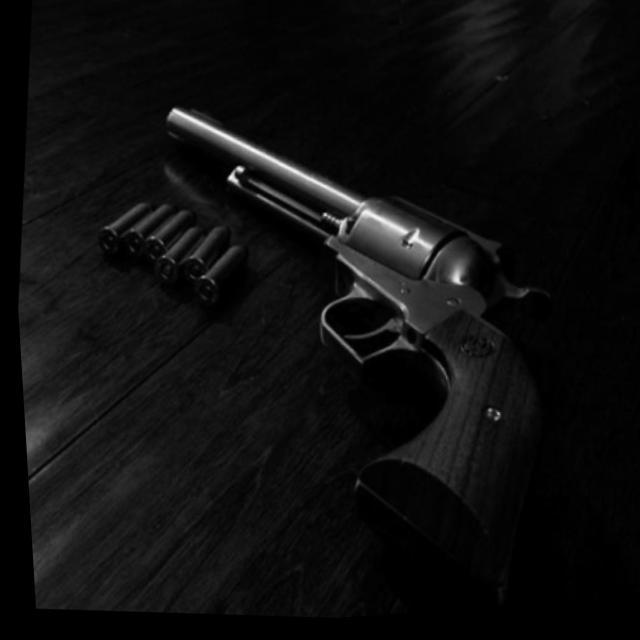weapon: (111, 80, 580, 634)
